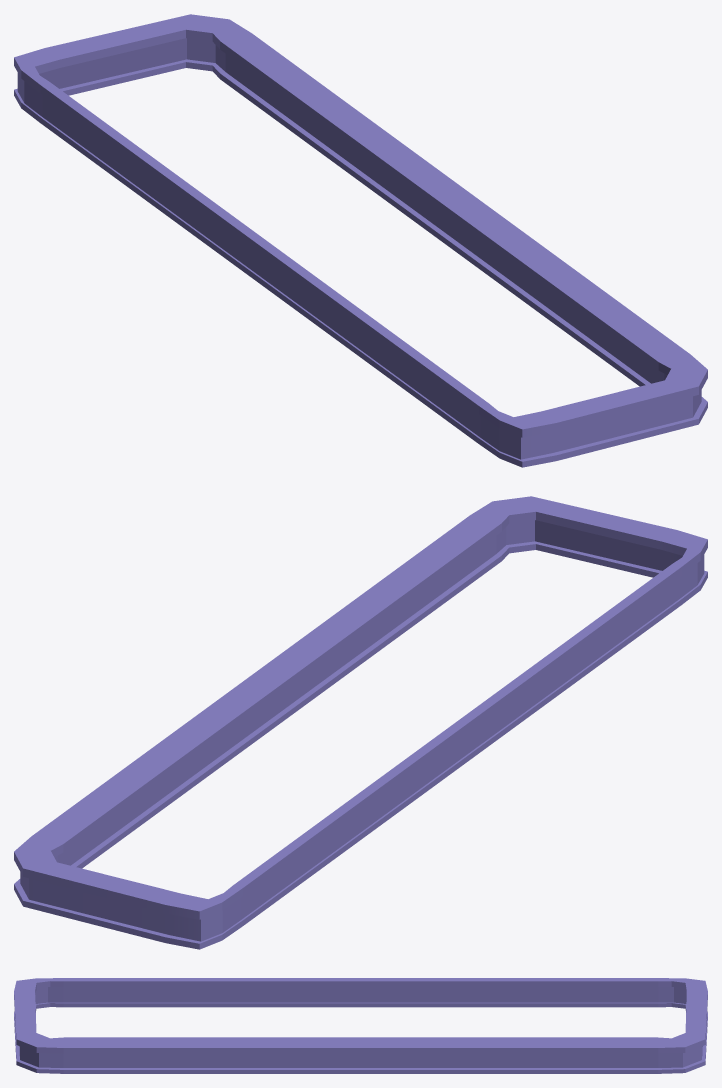
Rendered from Riel de Carniceria.fbx.
The picture shows the model from 3 angles, top to bottom: view 1: azimuth 30°, elevation 25°; view 2: azimuth 150°, elevation 25°; view 3: azimuth 270°, elevation 25°; orthographic projection. The views are drawn at different scales.
Visible parts, largest first — view 1: pCube1; view 2: pCube1; view 3: pCube1.
Boxes of the visible parts, x1,y1,x2,y2 form: pCube1: (14,14,707,467); pCube1: (14,496,707,949); pCube1: (14,978,707,1073).
Size of the model in its own units: 2.15 by 0.3703 by 9.
